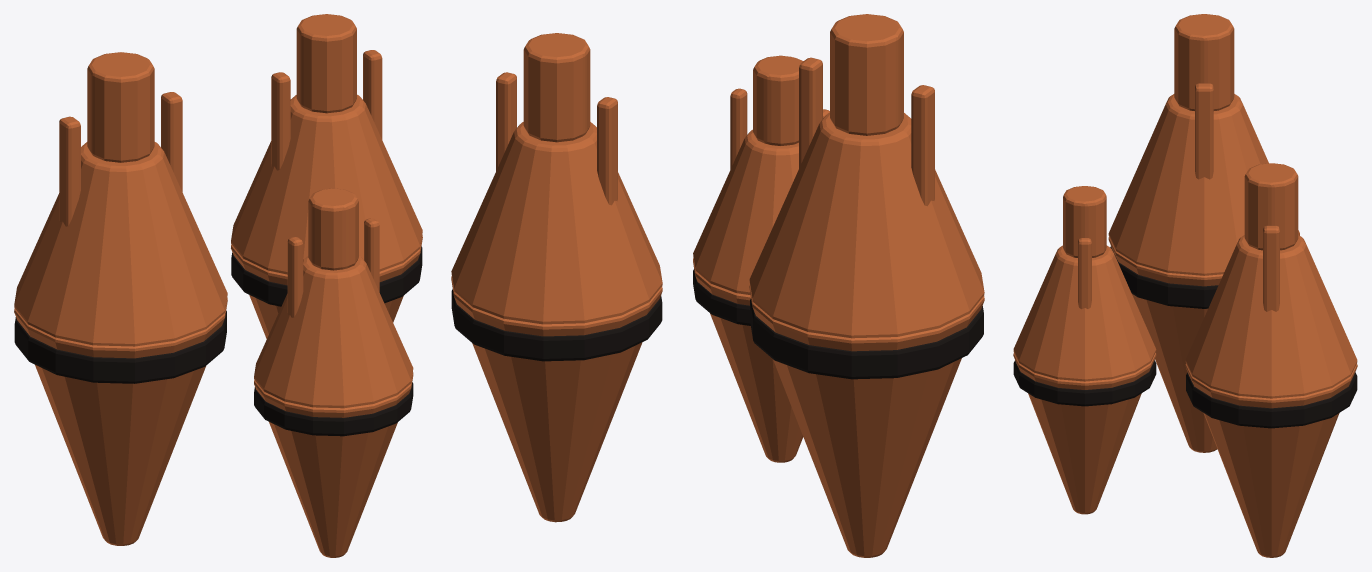
File: grecia_amphorae.fbx
3 renders of one model, left to right at view 1: azimuth 30°, elevation 25°; view 2: azimuth 150°, elevation 25°; view 3: azimuth 270°, elevation 25°, orthographic. The views are drawn at different scales.
Parts seen in each view (by area): view 1: grecia_amphorae; view 2: grecia_amphorae; view 3: grecia_amphorae.
Part boxes in pixels (x1=…): grecia_amphorae: x1=14, y1=14, x2=422, y2=557; grecia_amphorae: x1=451, y1=14, x2=984, y2=557; grecia_amphorae: x1=1013, y1=14, x2=1357, y2=557.
Size of the model in its own units: 1.16 by 1.25 by 0.9223.
